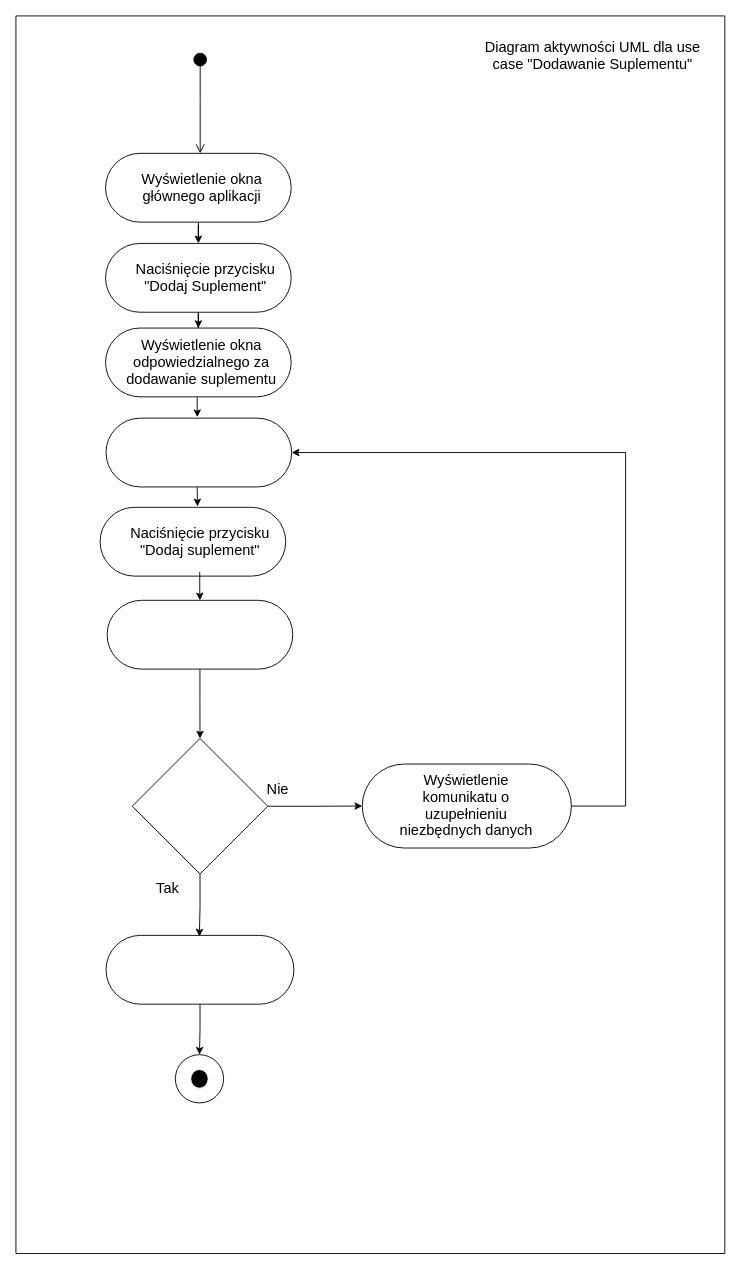
This 741x1269 diagram has some shape labels left out. Each missing label, with the centre of its shape:
Dodanie nowego suplementu: point (199, 969)
Sprawdzenie czy wszystkie wszystkie pola zostały uzupełnione: point (199, 634)
Uzupełnienie wymaganych danych: point (198, 452)
